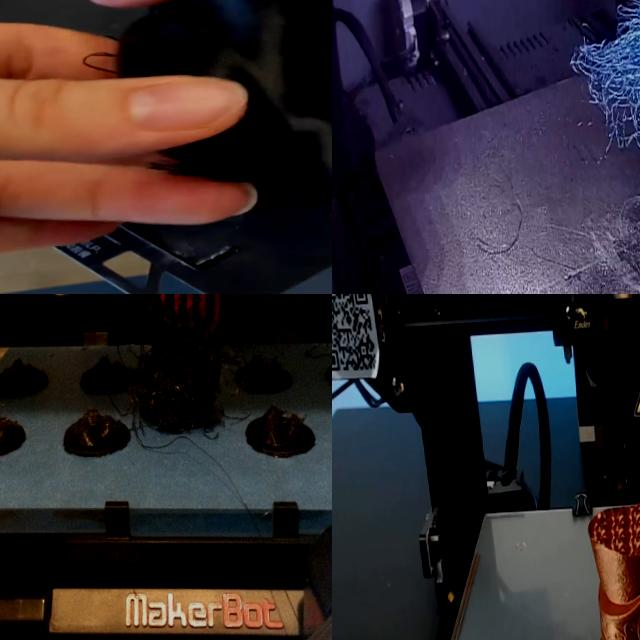spaghetti: (132, 311, 223, 435), (567, 271, 588, 287)
